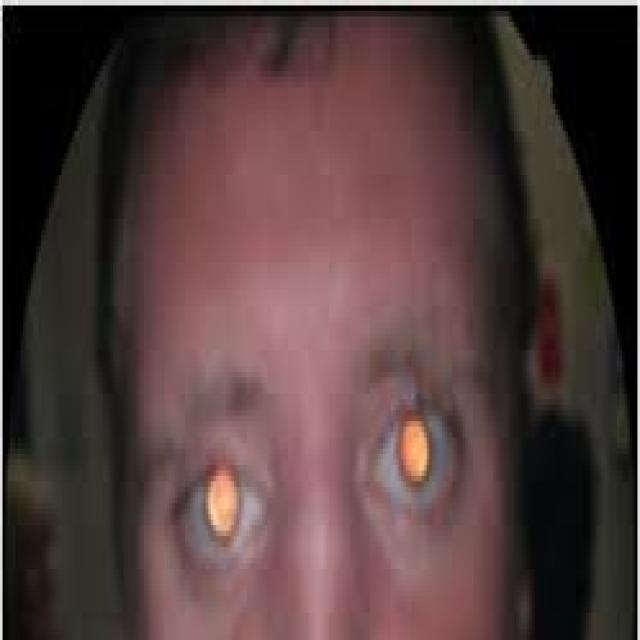reflexo-normal: (356, 384, 474, 544), (180, 427, 275, 586)
